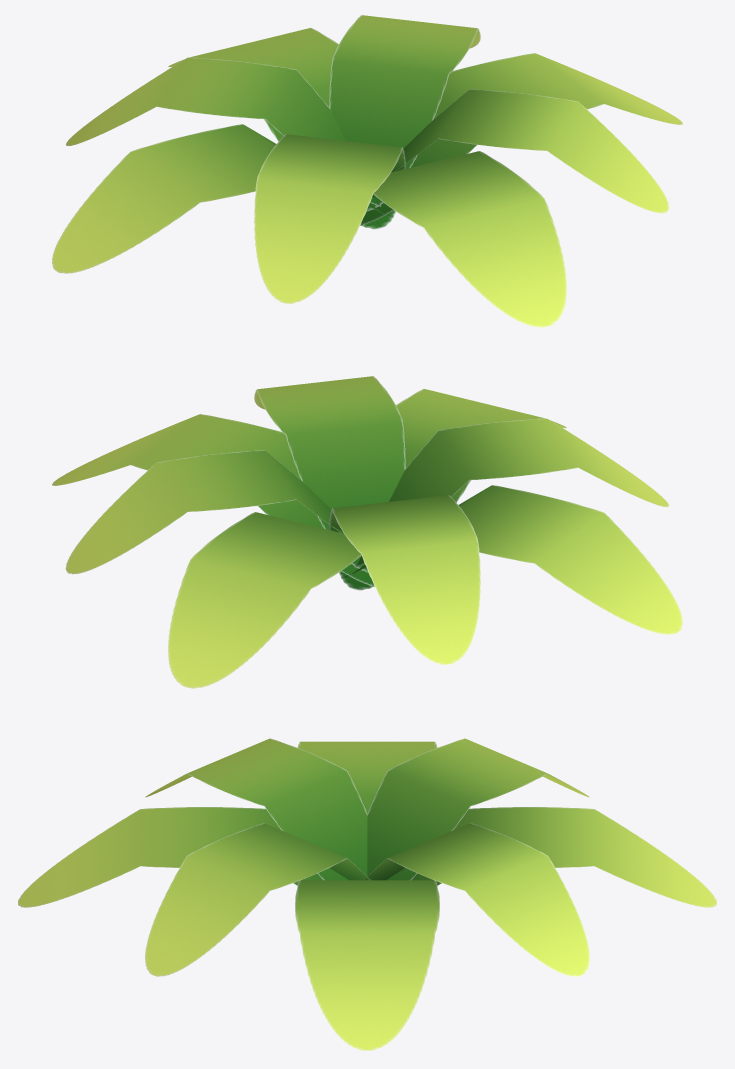
Rendered from plant_001.fbx.
3 renders of one model, top to bottom at view 1: azimuth 30°, elevation 25°; view 2: azimuth 150°, elevation 25°; view 3: azimuth 270°, elevation 25°, orthographic. The views are drawn at different scales.
Visible parts, largest first — view 1: plant.001; view 2: plant.001; view 3: plant.001.
Boxes of the visible parts, bbox=[...] form: plant.001: bbox=[52, 15, 682, 327]; plant.001: bbox=[52, 376, 682, 688]; plant.001: bbox=[18, 738, 716, 1050].
Size of the model in its own units: 48.05 by 8.48 by 48.05.
